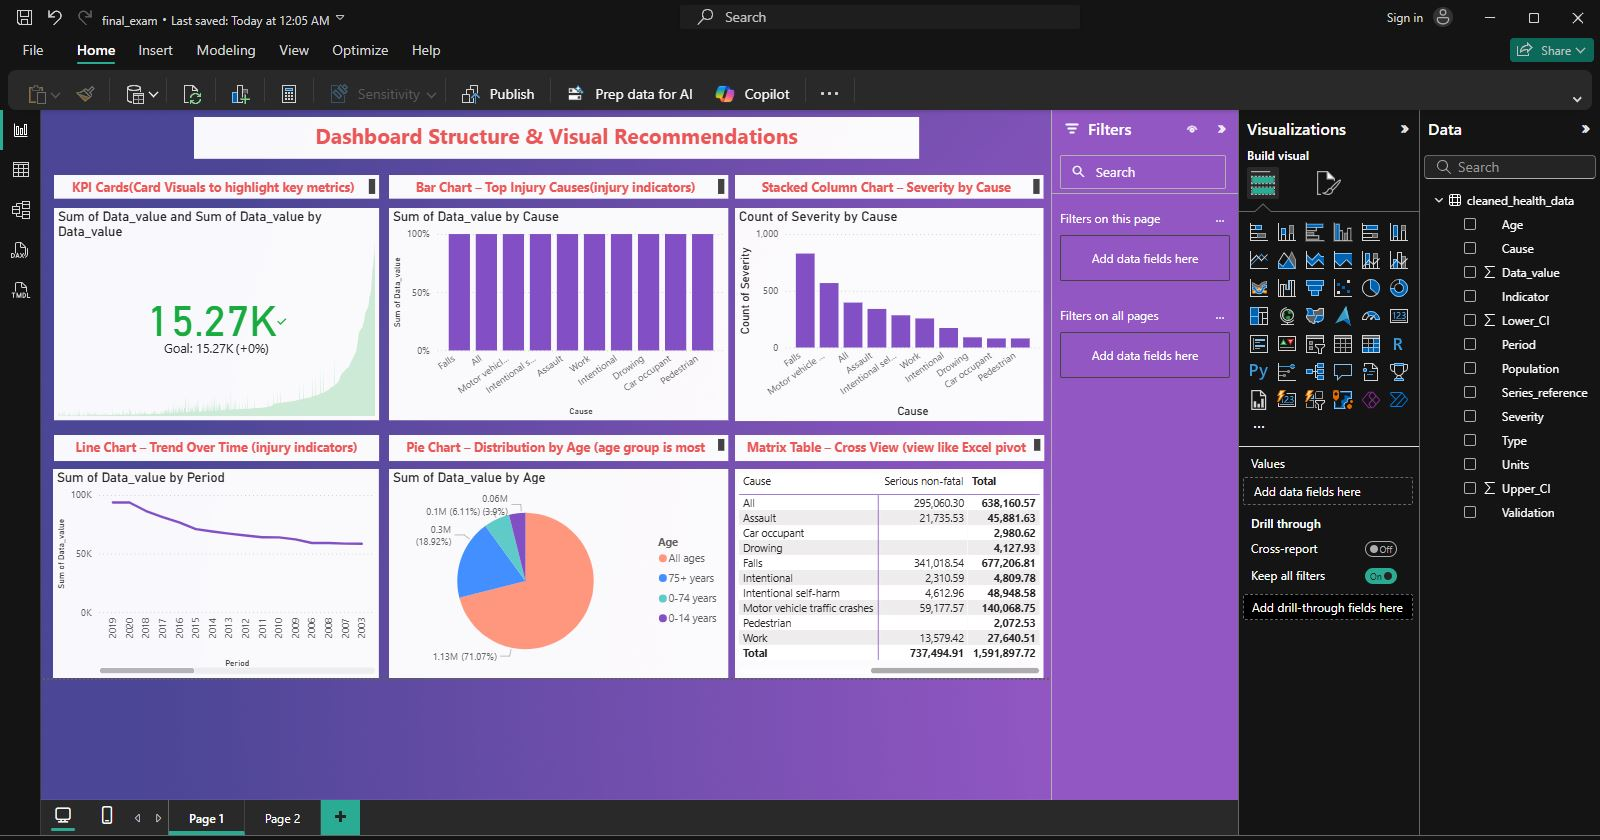

The dashboard page shown, as its layout file describes it:
{"tool":"powerbi","page":{"name":"Page 1","canvas":[1280,720],"ordinal":0},"visuals":[{"type":"kpi","fields":{"Indicator":["Sum(cleaned_health_data.Data_value)"],"TrendLine":["cleaned_health_data.Data_value"],"Goal":["Sum(cleaned_health_data.Data_value)"]},"box":[16.9,123.8,411.9,268.5],"z":0},{"type":"lineChart","fields":{"Category":["cleaned_health_data.Period"],"Y":["Sum(cleaned_health_data.Data_value)"]},"box":[15.6,454.9,413.2,264.6],"z":1000},{"type":"textbox","box":[193.9,8.9,918.8,53.2],"z":2000},{"type":"textbox","box":[16.9,82.1,411.9,30],"z":3000},{"type":"textbox","box":[16.9,411.9,411.9,32.6],"z":4000},{"type":"hundredPercentStackedColumnChart","fields":{"Category":["cleaned_health_data.Cause"],"Y":["Sum(cleaned_health_data.Data_value)"]},"box":[440.6,123.8,430.1,268.5],"z":5000},{"type":"textbox","box":[440.6,82.1,430.1,30],"z":6000},{"type":"columnChart","fields":{"Category":["cleaned_health_data.Cause"],"Y":["CountNonNull(cleaned_health_data.Severity)"]},"box":[879.8,123.8,391,269.8],"z":7000},{"type":"textbox","box":[879.8,82.1,391,30],"z":8000},{"type":"pieChart","fields":{"Category":["cleaned_health_data.Age"],"Y":["Sum(cleaned_health_data.Data_value)"]},"box":[441,455,430,265],"z":9000},{"type":"textbox","box":[440.6,411.9,430.1,32.6],"z":10000},{"type":"pivotTable","fields":{"Rows":["cleaned_health_data.Cause"],"Columns":["cleaned_health_data.Severity"],"Values":["Sum(cleaned_health_data.Data_value)"]},"box":[880,455,391,265],"z":11000},{"type":"textbox","box":[879.5,411.9,391.6,33],"z":12000}]}

Visuals, with their boxes on the page's 1280x720 design canvas (x1, y1, x2, y2). These are canvas units, not pixel positions in the 1600x840 screenshot, which may show the page scaled, cropped or inside an application window:
kpi - Sum(cleaned_health_data.Data_value) x cleaned_health_data.Data_value: region(17, 124, 429, 392)
lineChart - cleaned_health_data.Period x Sum(cleaned_health_data.Data_value): region(16, 455, 429, 720)
textbox: region(194, 9, 1113, 62)
textbox: region(17, 82, 429, 112)
textbox: region(17, 412, 429, 444)
hundredPercentStackedColumnChart - cleaned_health_data.Cause x Sum(cleaned_health_data.Data_value): region(441, 124, 871, 392)
textbox: region(441, 82, 871, 112)
columnChart - cleaned_health_data.Cause x CountNonNull(cleaned_health_data.Severity): region(880, 124, 1271, 394)
textbox: region(880, 82, 1271, 112)
pieChart - cleaned_health_data.Age x Sum(cleaned_health_data.Data_value): region(441, 455, 871, 720)
textbox: region(441, 412, 871, 444)
pivotTable - cleaned_health_data.Cause x cleaned_health_data.Severity: region(880, 455, 1271, 720)
textbox: region(880, 412, 1271, 445)
